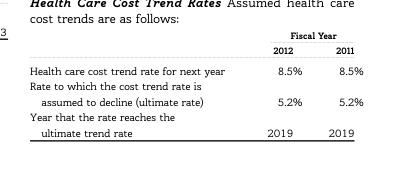table: (29, 28, 362, 139)
table column: (29, 28, 245, 139), (245, 28, 314, 139), (314, 28, 362, 139)
table column header: (29, 28, 362, 59)
table row: (29, 108, 362, 139), (29, 78, 362, 108), (29, 59, 362, 78), (29, 42, 362, 59), (29, 28, 362, 42)
table spanning cell: (245, 28, 362, 42)
